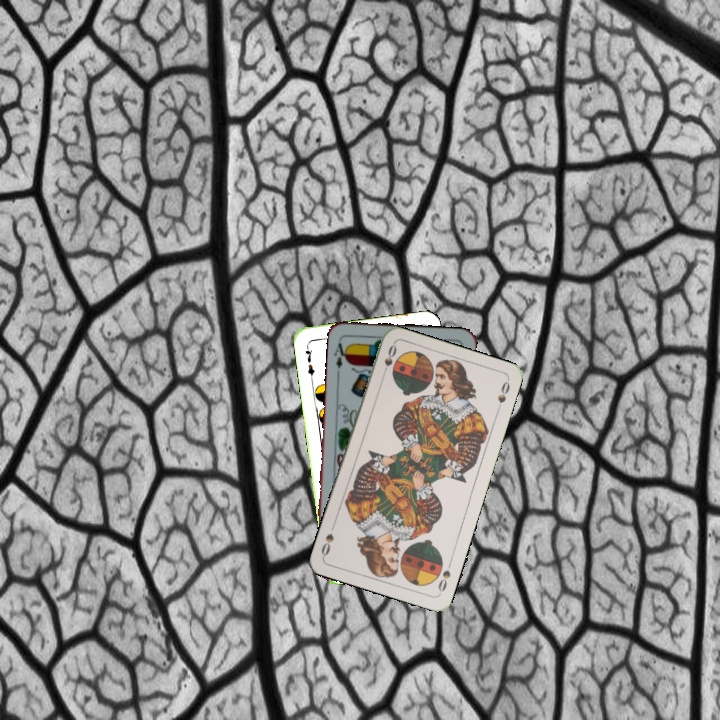E7: (301, 341, 317, 382)
EA: (330, 335, 351, 376)
SO: (434, 557, 455, 596), (379, 341, 399, 380)
